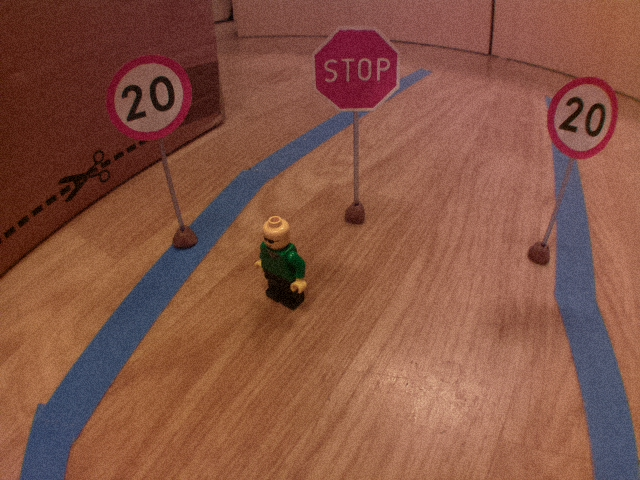LEGO_person: (250, 213, 314, 314)
ogr_20: (102, 50, 196, 144), (543, 74, 621, 161)
stop: (310, 22, 403, 116)
